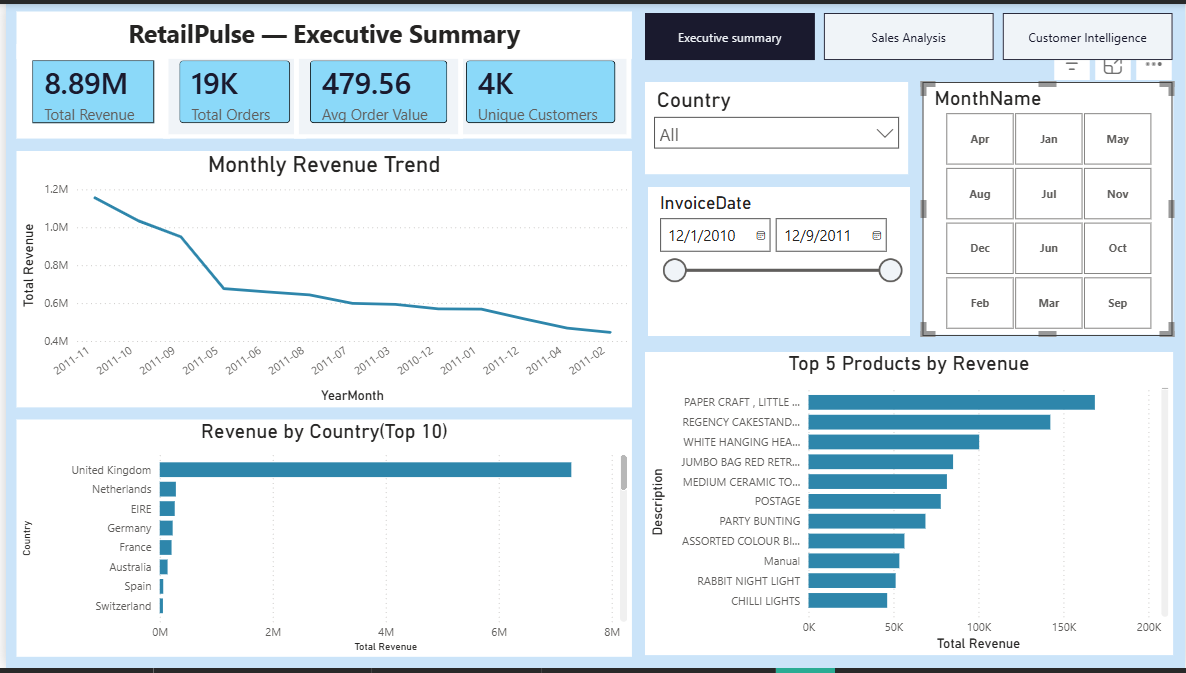

The dashboard page shown, as its layout file describes it:
{"tool":"powerbi","page":{"name":"Executive summary","canvas":[1280,720],"ordinal":0},"visuals":[{"type":"cardVisual","fields":{"Data":["retailpulse retail_sales.Total Revenue"]},"box":[11.3,43.5,166.3,102],"z":0},{"type":"cardVisual","fields":{"Data":["retailpulse retail_sales.Total Orders"]},"box":[170.1,43.5,155,102],"z":1000},{"type":"cardVisual","fields":{"Data":["retailpulse retail_sales.Unique Customers"]},"box":[481.9,43.5,196.5,102],"z":2000},{"type":"cardVisual","fields":{"Data":["retailpulse retail_sales.Avg Order Value"]},"box":[311.8,43.5,183.3,102],"z":3000},{"type":"lineChart","title":"Monthly Revenue Trend","fields":{"Category":["retailpulse retail_sales.YearMonth"],"Y":["retailpulse retail_sales.Total Revenue"]},"box":[11.3,158.7,667.1,277.8],"z":4000},{"type":"clusteredBarChart","title":"Revenue by Country(Top 10)","fields":{"Category":["retailpulse retail_sales.Country"],"Y":["retailpulse retail_sales.Total Revenue"]},"box":[11.3,449.8,667.1,257],"z":5000},{"type":"clusteredBarChart","title":"Top 5 Products by Revenue","fields":{"Category":["retailpulse retail_sales.Description"],"Y":["retailpulse retail_sales.Total Revenue"]},"box":[693.5,378,572.6,328.8],"z":6000},{"type":"slicer","fields":{"Values":["retailpulse retail_sales.Country"]},"box":[693.5,85,285.4,100.2],"z":7000},{"type":"slicer","fields":{"Values":["retailpulse retail_sales.InvoiceDate"]},"box":[695.4,198.4,283.5,160.6],"z":8000},{"type":"slicer","fields":{"Values":["retailpulse retail_sales.MonthName"]},"box":[994,85,272.1,274],"z":9000},{"type":"textbox","box":[11.3,7.6,667.1,51],"z":10000},{"type":"pageNavigator","box":[693.5,9.4,572.6,51],"z":11000}]}

Visuals, with their boxes in screenshot pixels (x1, y1, x2, y2), scaled from the page's 1280x720 canvas onto the 1186x673 screenshot:
cardVisual - retailpulse retail_sales.Total Revenue: (10,41,165,136)
cardVisual - retailpulse retail_sales.Total Orders: (158,41,301,136)
cardVisual - retailpulse retail_sales.Unique Customers: (447,41,629,136)
cardVisual - retailpulse retail_sales.Avg Order Value: (289,41,459,136)
"Monthly Revenue Trend" lineChart: (10,148,629,408)
"Revenue by Country(Top 10)" clusteredBarChart: (10,420,629,661)
"Top 5 Products by Revenue" clusteredBarChart: (643,353,1173,661)
slicer - retailpulse retail_sales.Country: (643,79,907,173)
slicer - retailpulse retail_sales.InvoiceDate: (644,185,907,336)
slicer - retailpulse retail_sales.MonthName: (921,79,1173,336)
textbox: (10,7,629,55)
pageNavigator: (643,9,1173,56)
